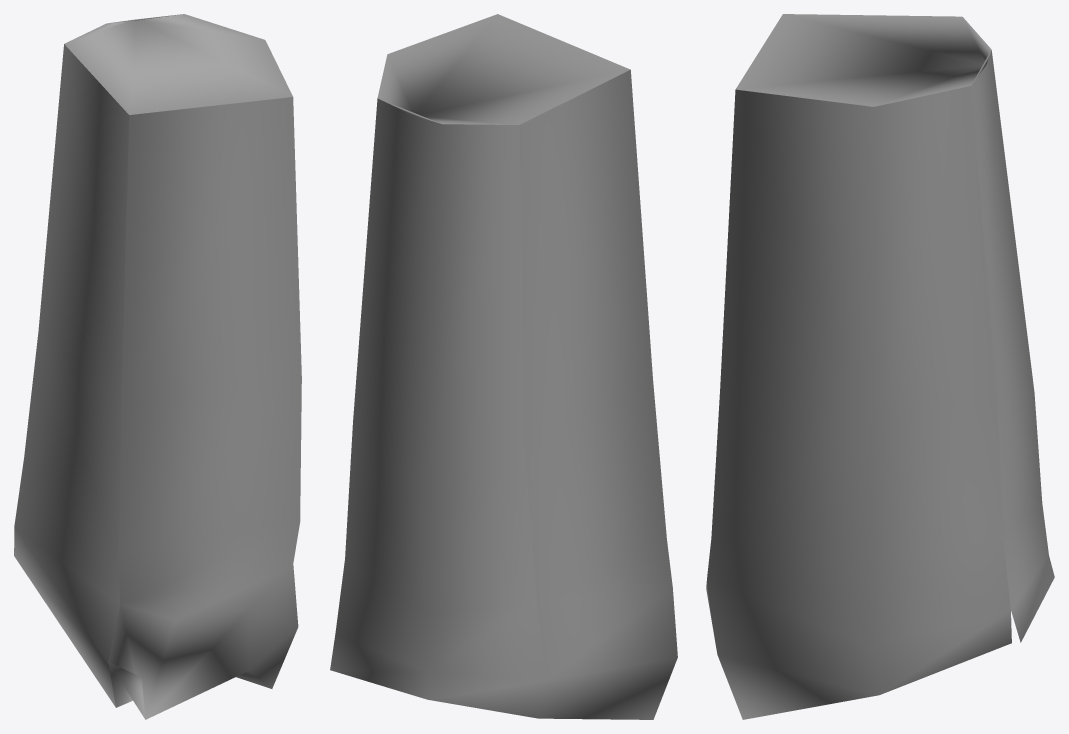
Rendered from left_forearm.glb.
3 renders of one model, left to right at view 1: azimuth 30°, elevation 25°; view 2: azimuth 150°, elevation 25°; view 3: azimuth 270°, elevation 25°, orthographic. The views are drawn at different scales.
Visible parts, largest first — view 1: sweater-grey_LEFT_FOREARM; view 2: sweater-grey_LEFT_FOREARM; view 3: sweater-grey_LEFT_FOREARM.
Boxes of the visible parts, <box> form: sweater-grey_LEFT_FOREARM: <box>14,14,301,719</box>; sweater-grey_LEFT_FOREARM: <box>330,14,677,719</box>; sweater-grey_LEFT_FOREARM: <box>706,14,1054,719</box>.
Size of the model in its own units: 0.1163 by 0.2888 by 0.1398.
Materials: 1 (1 with a texture image).
